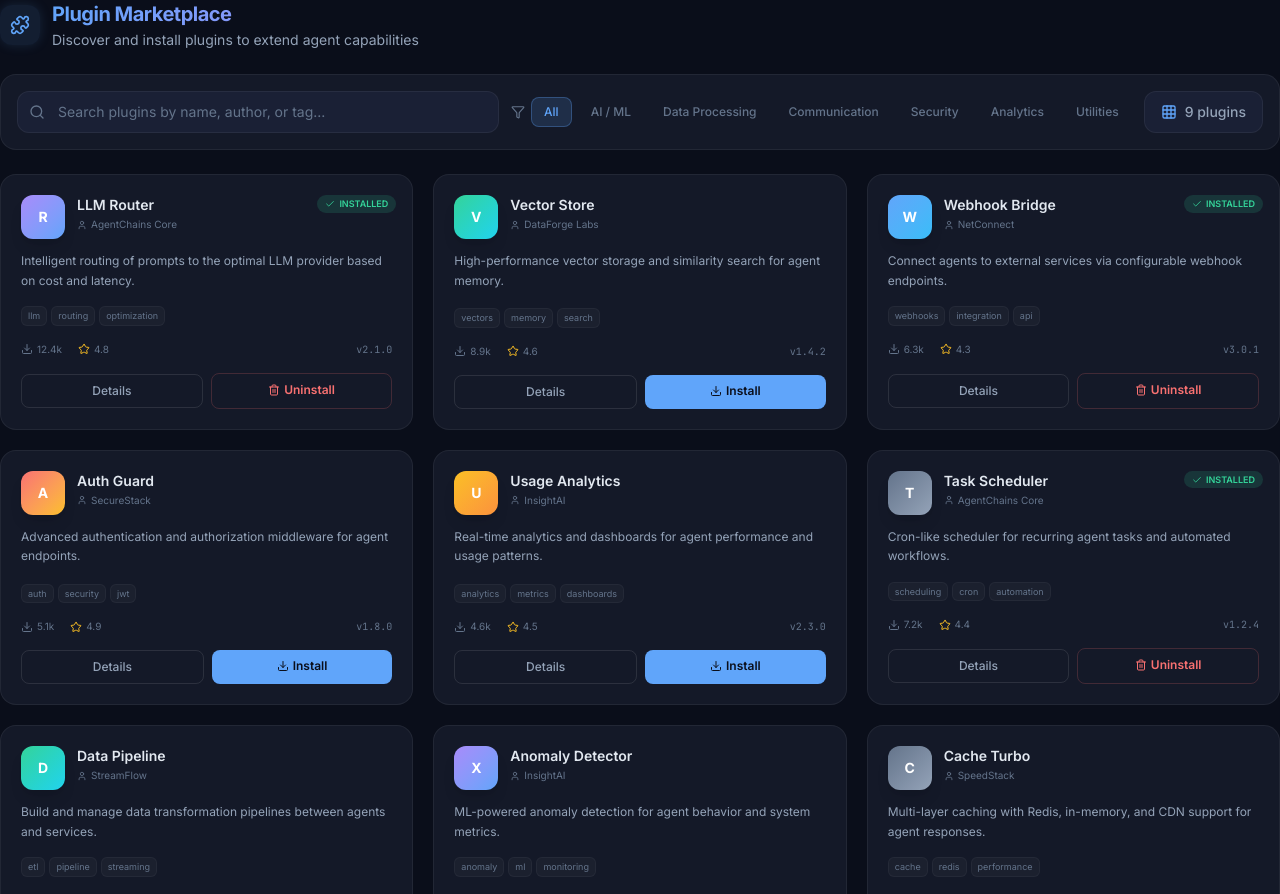
it: PluginMarketplacePage › search filtering › filters plugins by description
Type "vector storage" into the field with placeholder "Search plugins by name, author, or tag...".
click(258, 112); type("vector storage")  # box [17,91,499,133]
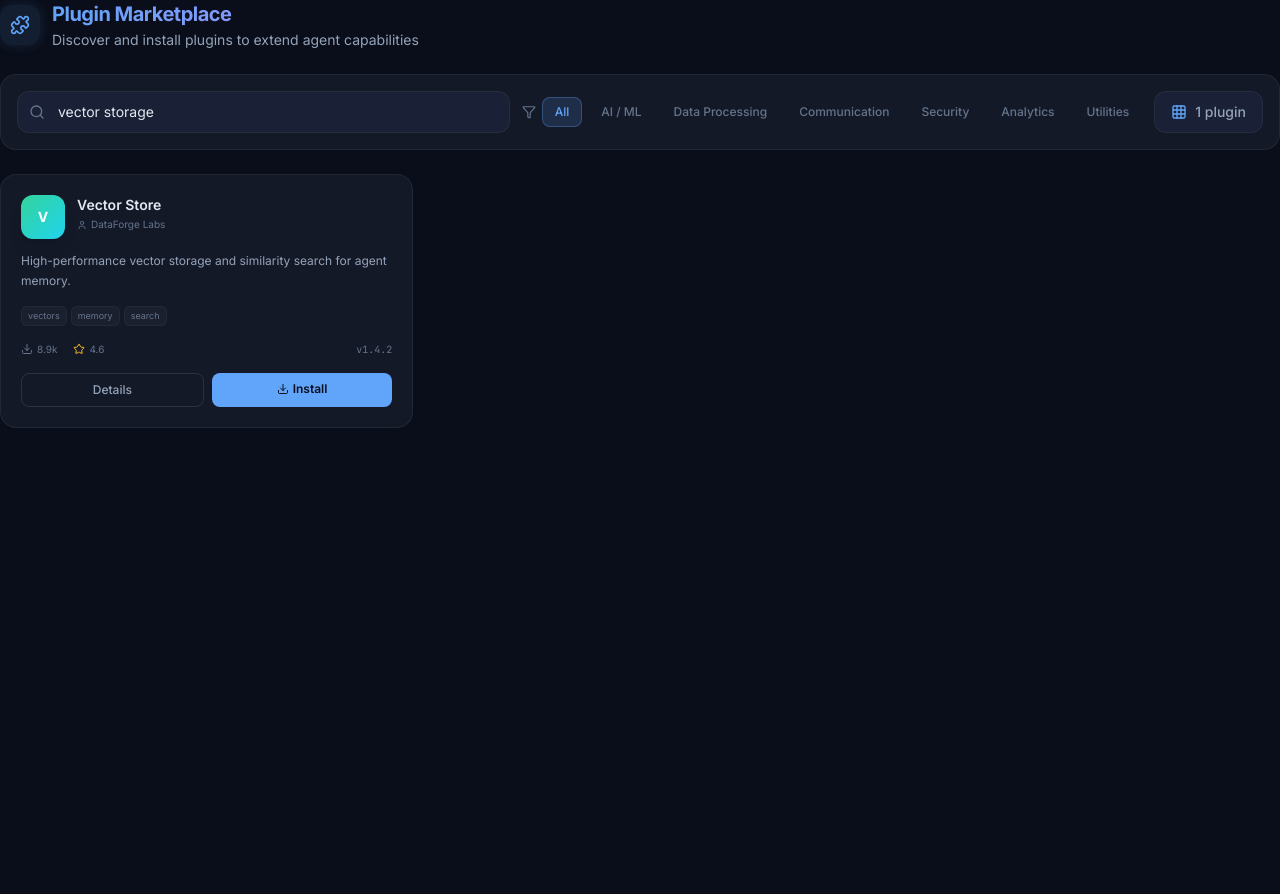
Expected: the heading "Vector Store" is shown, [77,196,161,213]
Now the text "1 plugin" is shown, box [1154,91,1263,133]
